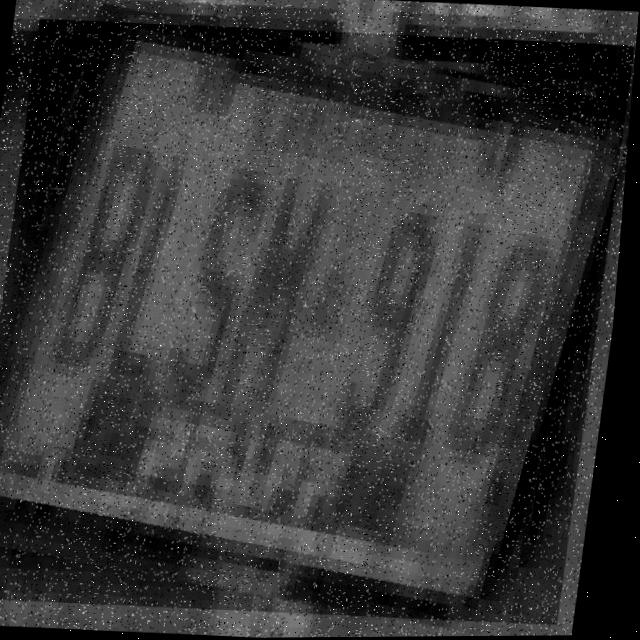LicensePlate: (0, 16, 637, 629)
